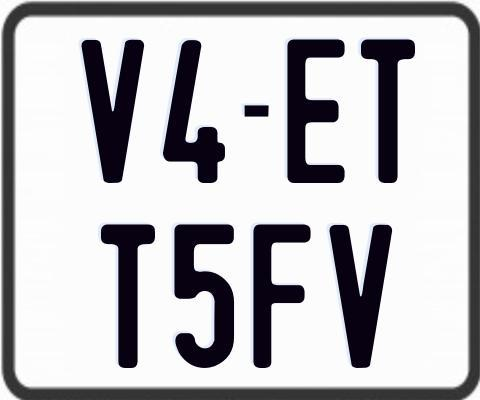4: (162, 39, 229, 183)
5: (172, 221, 236, 369)
E: (284, 37, 344, 187)
F: (252, 224, 311, 368)
T: (359, 37, 418, 184), (101, 224, 159, 370)
V: (328, 225, 395, 374), (80, 37, 148, 182)
